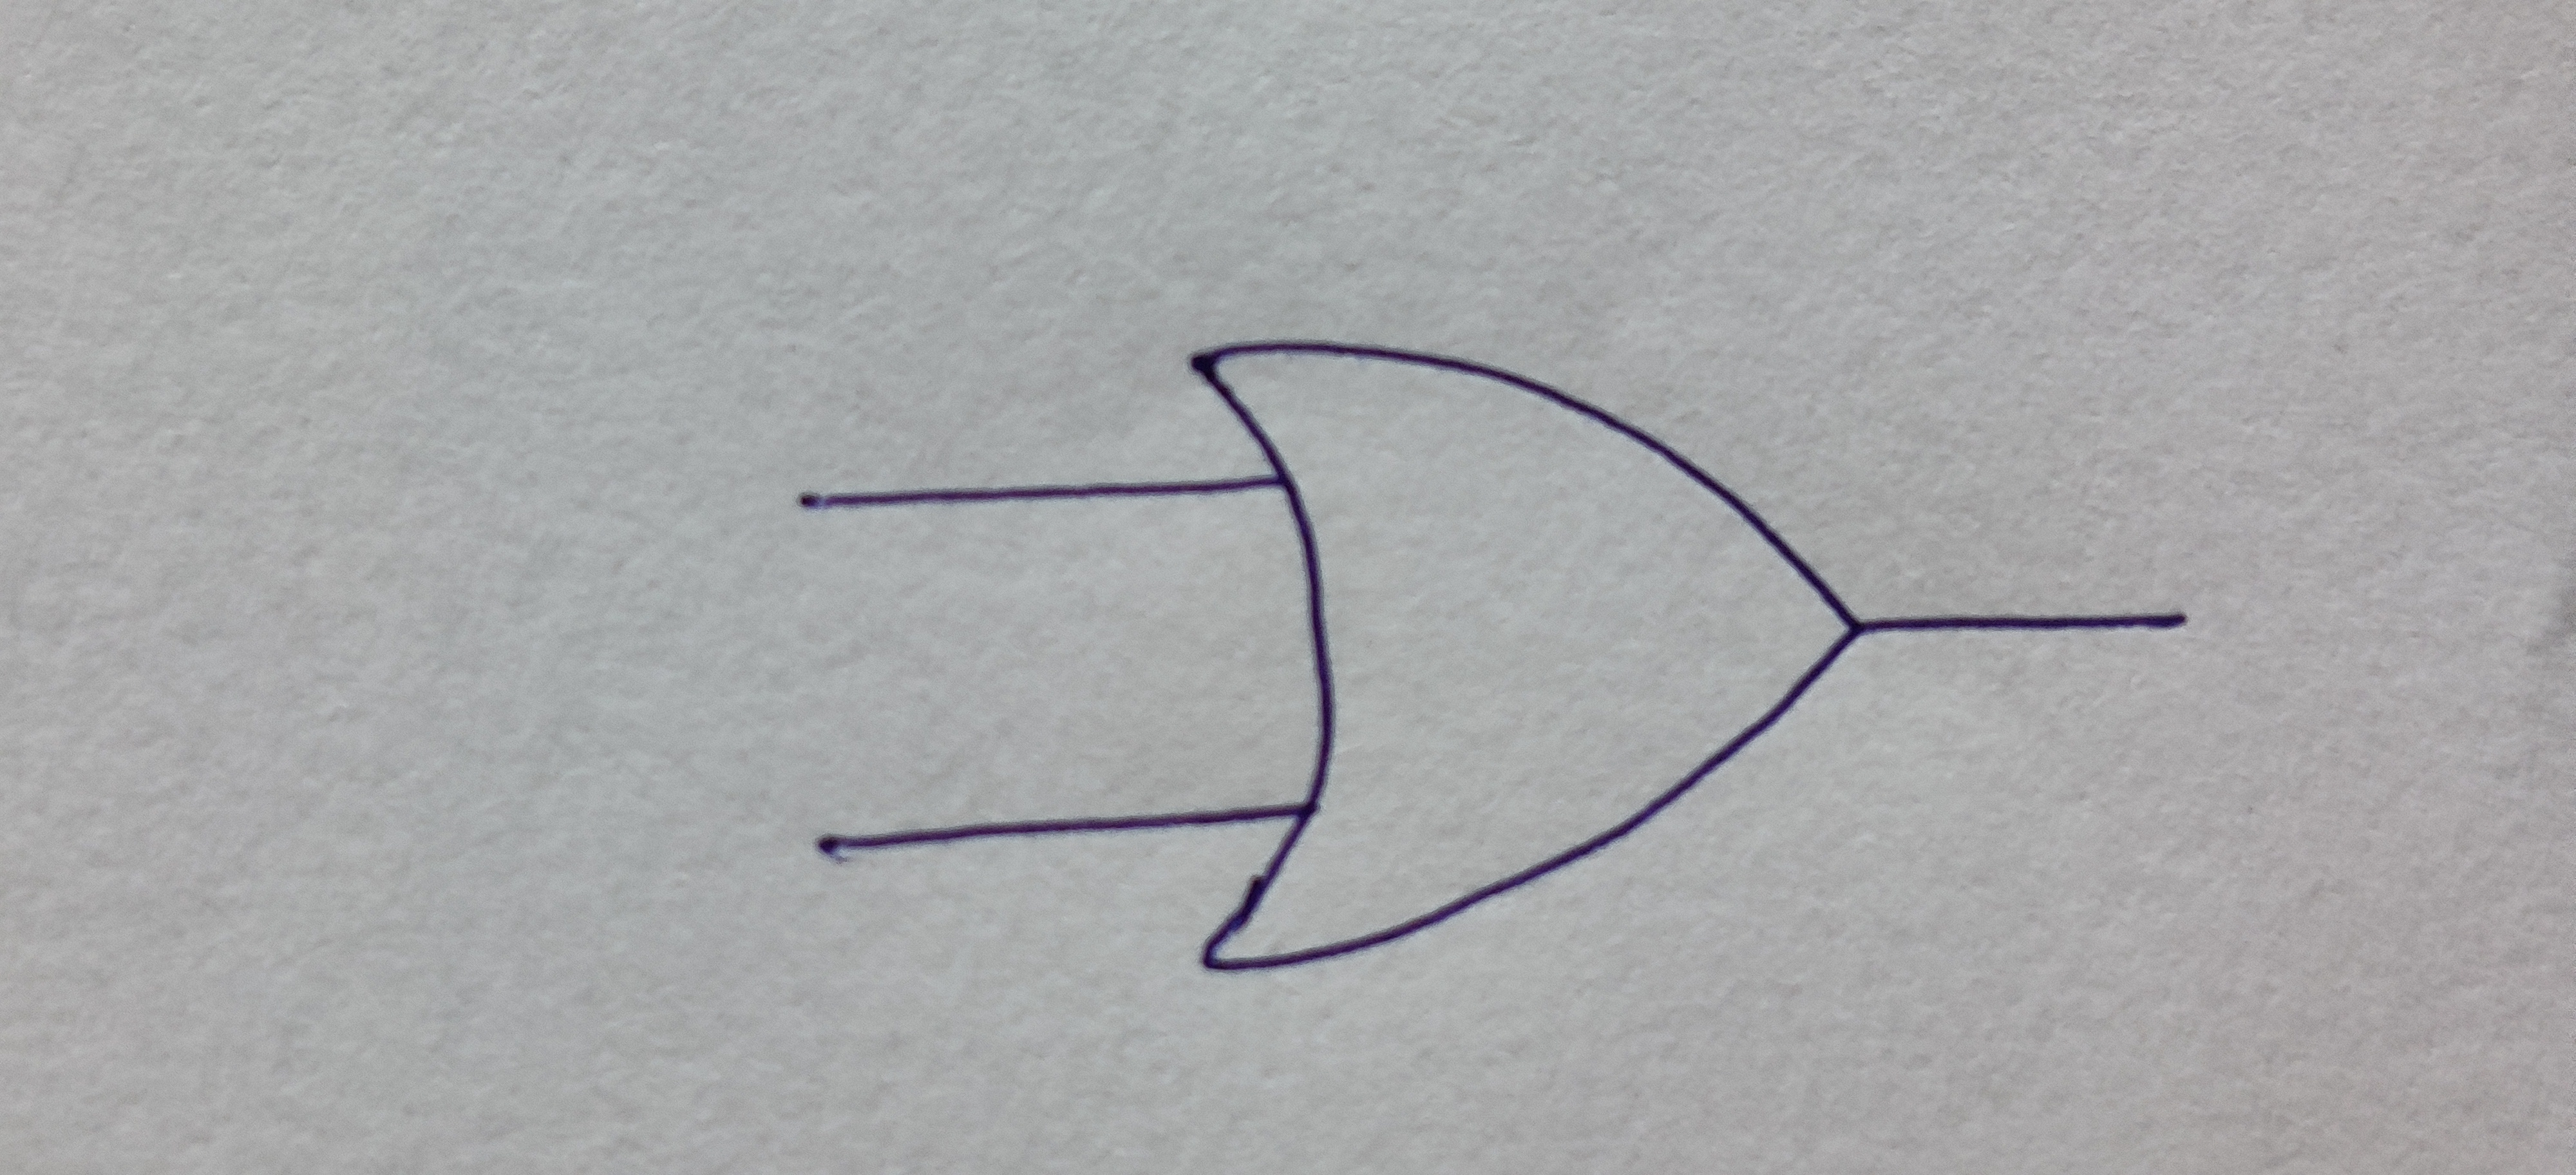or: (1193, 340, 1866, 970)
